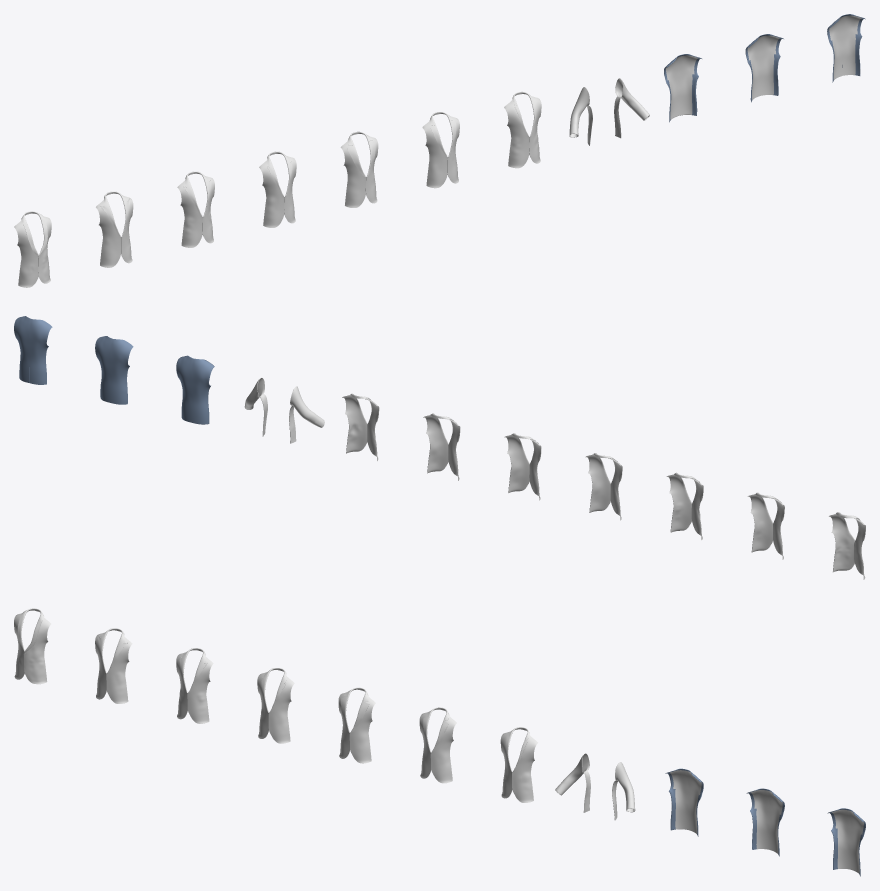
File: Help.fbx
3 views of the same model, one above another, from view 1: azimuth 30°, elevation 25°; view 2: azimuth 150°, elevation 25°; view 3: azimuth 330°, elevation 25° (orthographic).
Visible parts, largest first — view 1: SM_CarlosSA_Jacket_BackVent_SingleVent, SM_CarlosSA_Jacket_BackVent_DoubleVent, SM_CarlosSA_Jacket_BackVent_None, SM_CarlosSA_Jacket_SingleBreasted_Lapel_Shawl, SM_CarlosSA_Jacket_SingleBreasted_Lapel_Notched_9cm, SM_CarlosSA_Jacket_SingleBreasted_Lapel_Notched_4cm, SM_CarlosSA_Jacket_SingleBreasted_Lapel_Peak_12cm, SM_CarlosSA_Jacket_SingleBreasted_Lapel_Peak_7cm, SM_CarlosSA_Jacket_SingleBreasted_Lapel_Peak_9cm, SM_CarlosSA_Jacket_SingleBreasted_Lapel_Notched_7cm, SM_CarlosSA_Jacket_FixedClothing_0001; view 2: SM_CarlosSA_Jacket_BackVent_None, SM_CarlosSA_Jacket_BackVent_DoubleVent, SM_CarlosSA_Jacket_BackVent_SingleVent, SM_CarlosSA_Jacket_SingleBreasted_Lapel_Shawl, SM_CarlosSA_Jacket_SingleBreasted_Lapel_Peak_12cm, SM_CarlosSA_Jacket_SingleBreasted_Lapel_Peak_9cm, SM_CarlosSA_Jacket_SingleBreasted_Lapel_Notched_9cm, SM_CarlosSA_Jacket_SingleBreasted_Lapel_Notched_7cm, SM_CarlosSA_Jacket_SingleBreasted_Lapel_Peak_7cm, SM_CarlosSA_Jacket_SingleBreasted_Lapel_Notched_4cm, SM_CarlosSA_Jacket_FixedClothing_0001; view 3: SM_CarlosSA_Jacket_BackVent_None, SM_CarlosSA_Jacket_BackVent_DoubleVent, SM_CarlosSA_Jacket_BackVent_SingleVent, SM_CarlosSA_Jacket_SingleBreasted_Lapel_Shawl, SM_CarlosSA_Jacket_SingleBreasted_Lapel_Notched_7cm, SM_CarlosSA_Jacket_SingleBreasted_Lapel_Peak_9cm, SM_CarlosSA_Jacket_SingleBreasted_Lapel_Notched_4cm, SM_CarlosSA_Jacket_SingleBreasted_Lapel_Peak_12cm, SM_CarlosSA_Jacket_SingleBreasted_Lapel_Notched_9cm, SM_CarlosSA_Jacket_SingleBreasted_Lapel_Peak_7cm, SM_CarlosSA_Jacket_FixedClothing_0001.
Part boxes in pixels (x1,y1,x2,y2): SM_CarlosSA_Jacket_BackVent_SingleVent: (827,14,865,82); SM_CarlosSA_Jacket_BackVent_DoubleVent: (745,34,783,102); SM_CarlosSA_Jacket_BackVent_None: (664,54,701,122); SM_CarlosSA_Jacket_SingleBreasted_Lapel_Shawl: (14,211,51,287); SM_CarlosSA_Jacket_SingleBreasted_Lapel_Notched_9cm: (340,131,378,207); SM_CarlosSA_Jacket_SingleBreasted_Lapel_Notched_4cm: (504,91,541,168); SM_CarlosSA_Jacket_SingleBreasted_Lapel_Peak_12cm: (96,191,133,267); SM_CarlosSA_Jacket_SingleBreasted_Lapel_Peak_7cm: (259,151,296,227); SM_CarlosSA_Jacket_SingleBreasted_Lapel_Peak_9cm: (177,171,214,247); SM_CarlosSA_Jacket_SingleBreasted_Lapel_Notched_7cm: (422,112,459,188); SM_CarlosSA_Jacket_FixedClothing_0001: (569,78,649,145); SM_CarlosSA_Jacket_BackVent_None: (176,355,214,424); SM_CarlosSA_Jacket_BackVent_DoubleVent: (95,336,133,404); SM_CarlosSA_Jacket_BackVent_SingleVent: (14,316,52,384); SM_CarlosSA_Jacket_SingleBreasted_Lapel_Shawl: (829,512,865,579); SM_CarlosSA_Jacket_SingleBreasted_Lapel_Peak_12cm: (747,492,784,559); SM_CarlosSA_Jacket_SingleBreasted_Lapel_Peak_9cm: (666,472,703,539); SM_CarlosSA_Jacket_SingleBreasted_Lapel_Notched_9cm: (504,433,541,500); SM_CarlosSA_Jacket_SingleBreasted_Lapel_Notched_7cm: (423,413,460,480); SM_CarlosSA_Jacket_SingleBreasted_Lapel_Peak_7cm: (585,453,622,520); SM_CarlosSA_Jacket_SingleBreasted_Lapel_Notched_4cm: (342,393,379,460); SM_CarlosSA_Jacket_FixedClothing_0001: (244,377,324,443); SM_CarlosSA_Jacket_BackVent_None: (665,768,703,836); SM_CarlosSA_Jacket_BackVent_DoubleVent: (746,788,784,856); SM_CarlosSA_Jacket_BackVent_SingleVent: (827,808,865,876); SM_CarlosSA_Jacket_SingleBreasted_Lapel_Shawl: (14,608,50,684); SM_CarlosSA_Jacket_SingleBreasted_Lapel_Notched_7cm: (419,707,456,783); SM_CarlosSA_Jacket_SingleBreasted_Lapel_Peak_9cm: (176,648,213,723); SM_CarlosSA_Jacket_SingleBreasted_Lapel_Notched_4cm: (500,727,537,802); SM_CarlosSA_Jacket_SingleBreasted_Lapel_Peak_12cm: (95,628,132,703); SM_CarlosSA_Jacket_SingleBreasted_Lapel_Notched_9cm: (338,687,375,763); SM_CarlosSA_Jacket_SingleBreasted_Lapel_Peak_7cm: (257,668,294,743); SM_CarlosSA_Jacket_FixedClothing_0001: (555,753,635,820).
Size of the model in its own units: 1043 by 77.48 by 31.6.
